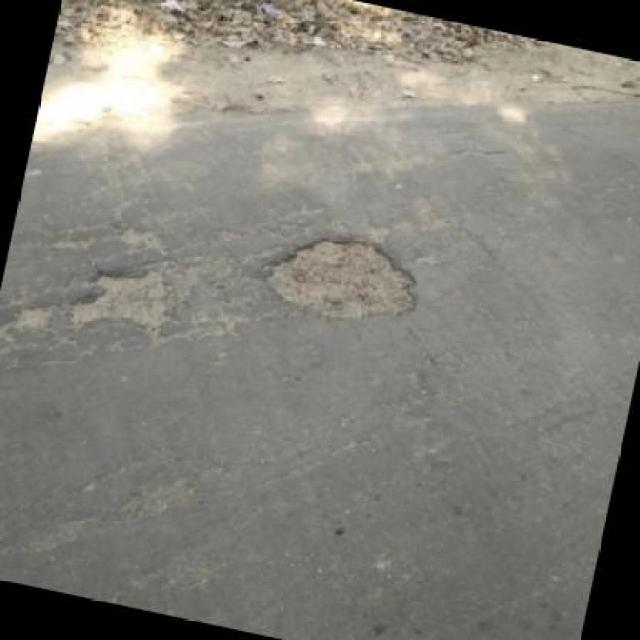pothole1: (258, 218, 432, 336), (66, 250, 182, 348)
